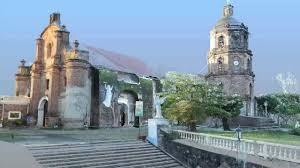santa_maria_church_santa_maria_ilocos_sur: (10, 8, 91, 131)
unfinished_paint: (56, 78, 94, 122)
water_damage_or_mold: (100, 71, 117, 83), (140, 78, 153, 93), (143, 95, 153, 112), (121, 83, 139, 92)
